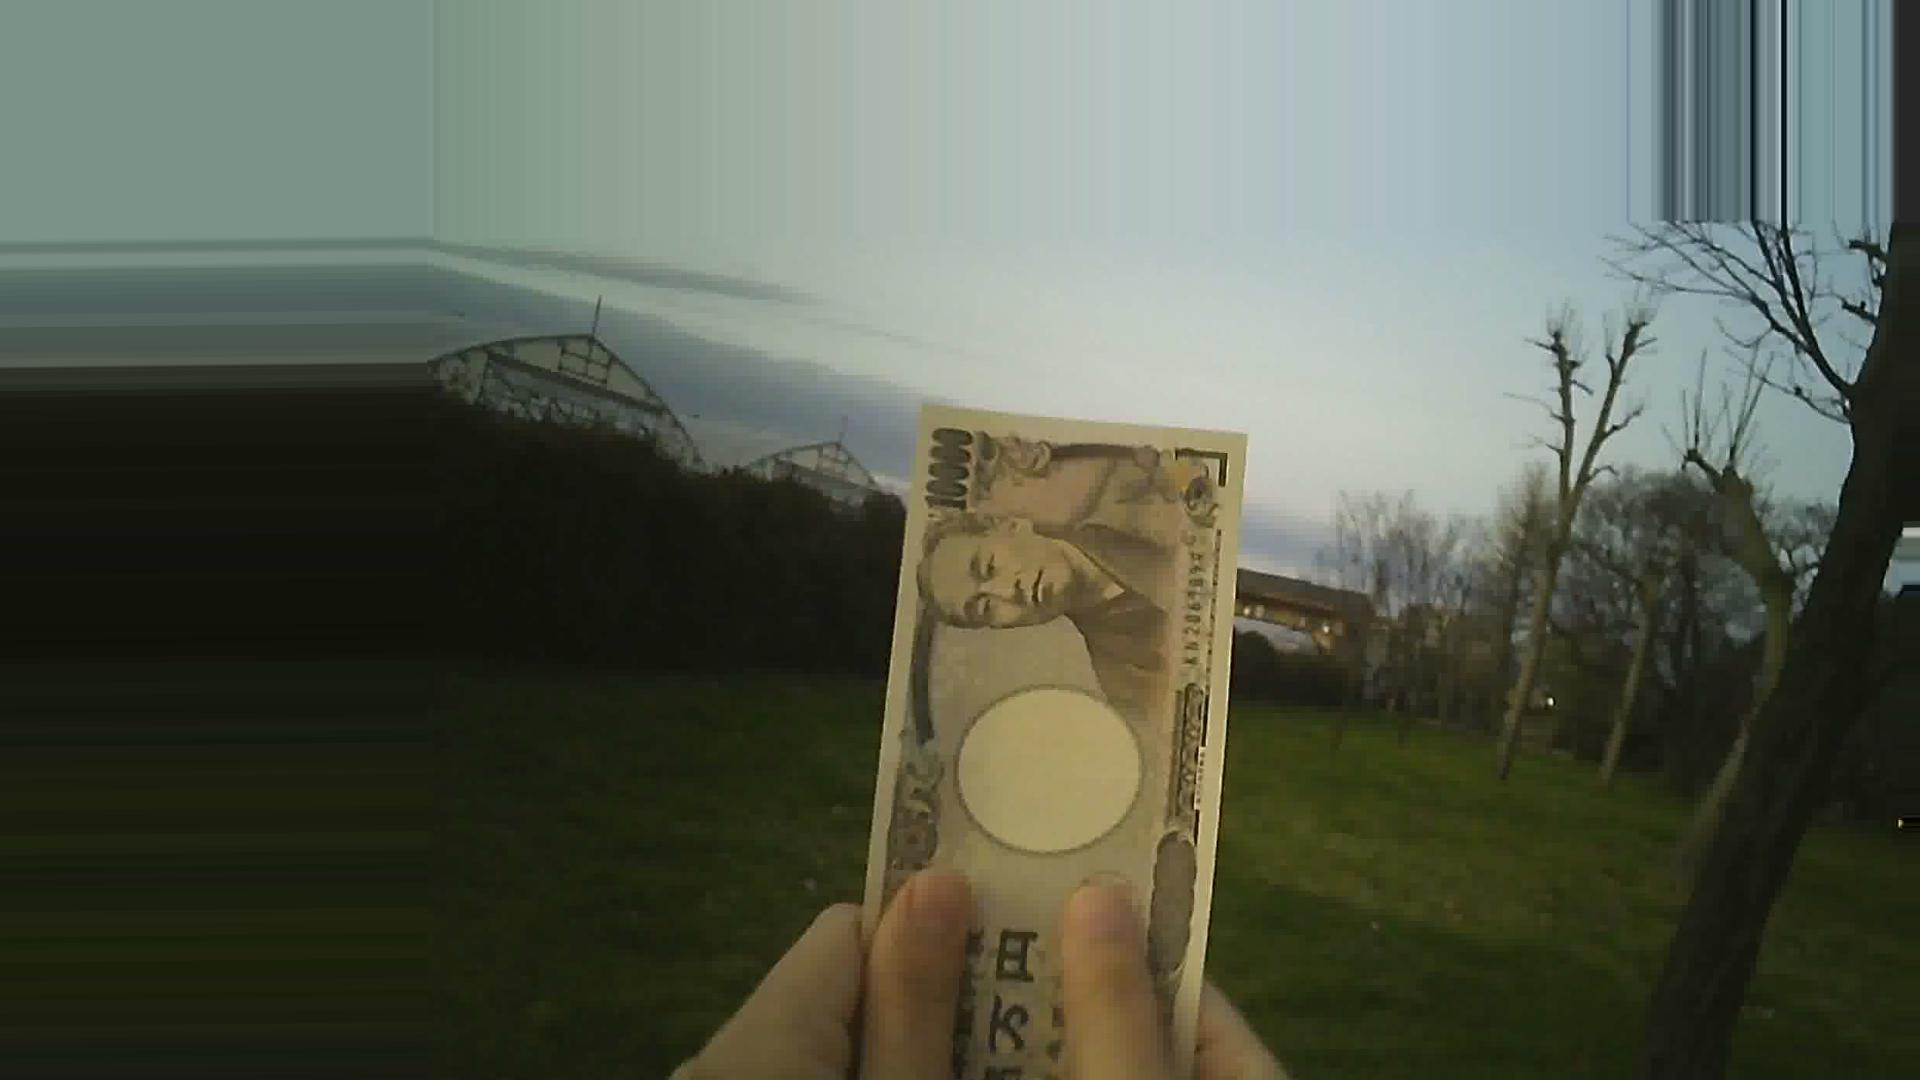10,000 Yen: (818, 373, 1238, 1079)
